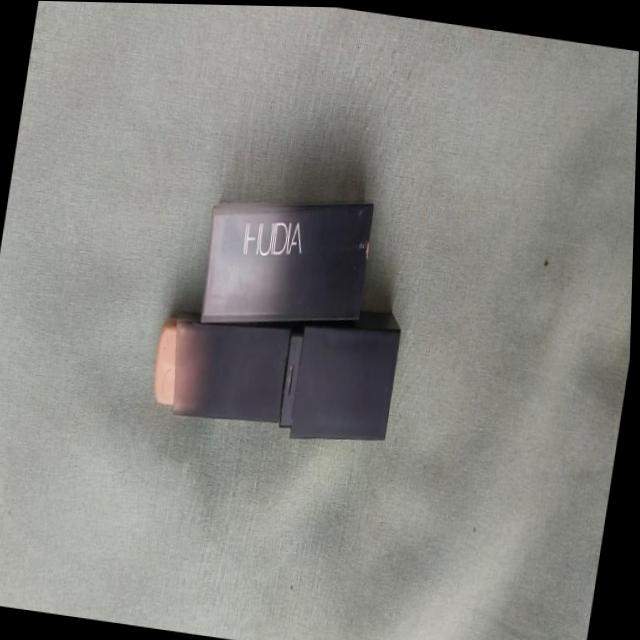lip stick: (140, 169, 431, 453)
